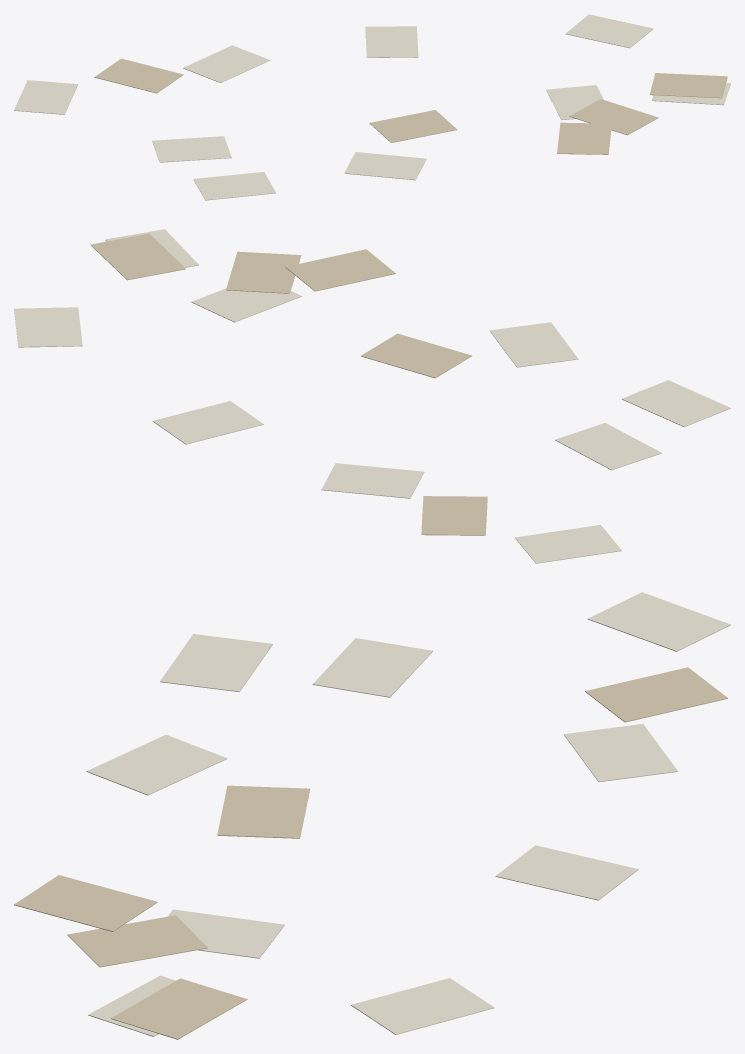
File: papers_scattered.glb
3 views of the same model, one above another, from view 1: azimuth 30°, elevation 25°; view 2: azimuth 150°, elevation 25°; view 3: azimuth 270°, elevation 25° (orthographic). The views are drawn at different scales.
Parts seen in each view (by area): view 1: papers_scattered; view 2: papers_scattered; view 3: papers_scattered.
Part boxes in pixels (x1,y1,x2,y2): papers_scattered: (14, 14, 730, 200); papers_scattered: (14, 229, 730, 563); papers_scattered: (14, 592, 730, 1039).
Bounding box in the file's own units: 2.68 × 0.0124 × 1.81.
